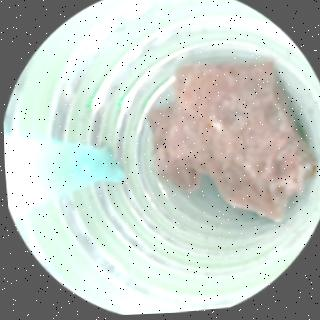fiber: (37, 138, 121, 202)
stone: (149, 64, 313, 223)
